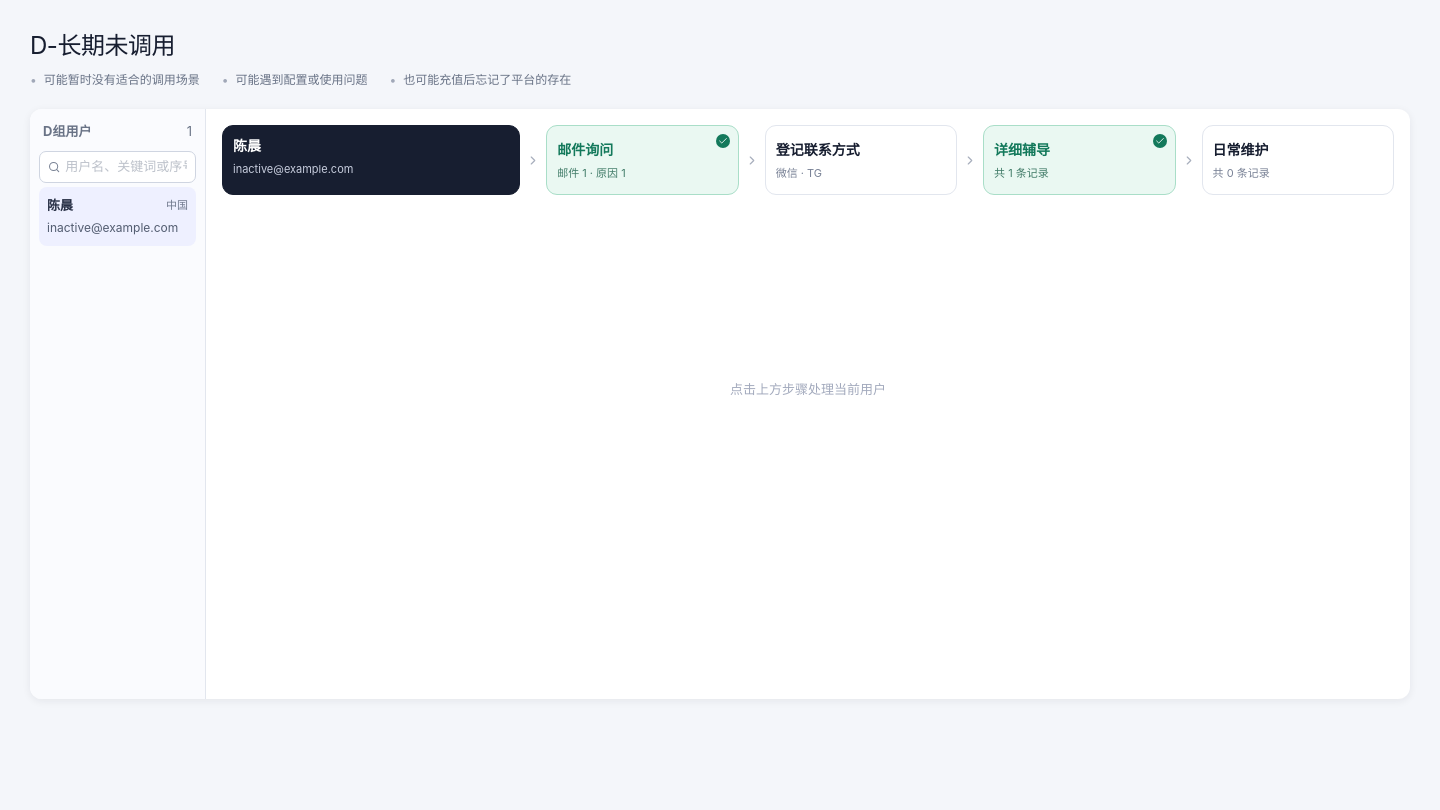
Test: DGroupWorkspace › reuses contact and maintenance interactions
Click the button "登记联系方式 微信 · TG" at (861, 160), box top-left (765, 125), bottom-right (957, 195)
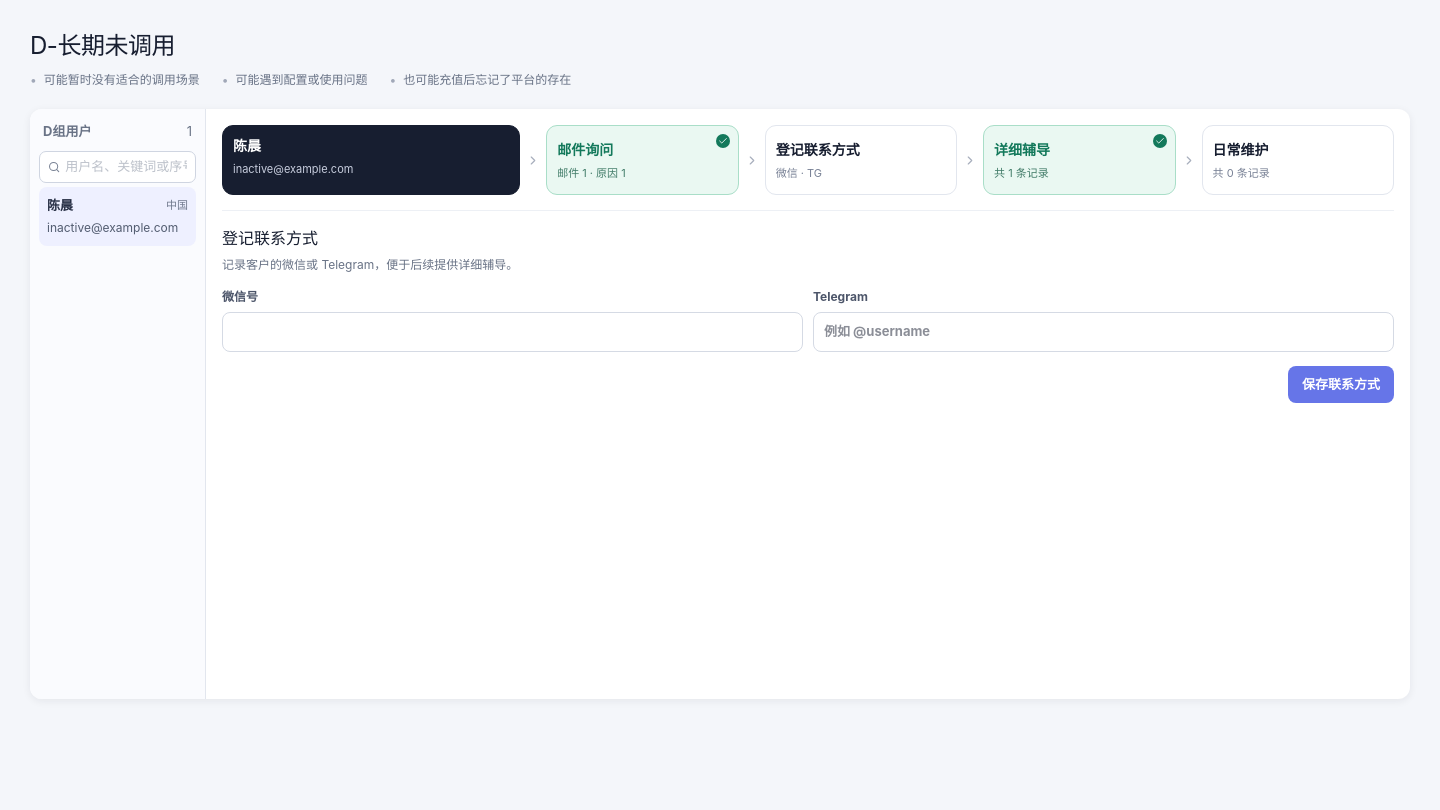
Expected: the field labelled "微信号" is shown, top-left (222, 312), bottom-right (803, 352)
Expected: the field labelled "Telegram" is shown, top-left (813, 312), bottom-right (1394, 352)
Click the button "日常维护 共 0 条记录" at (1298, 160), box top-left (1202, 125), bottom-right (1394, 195)
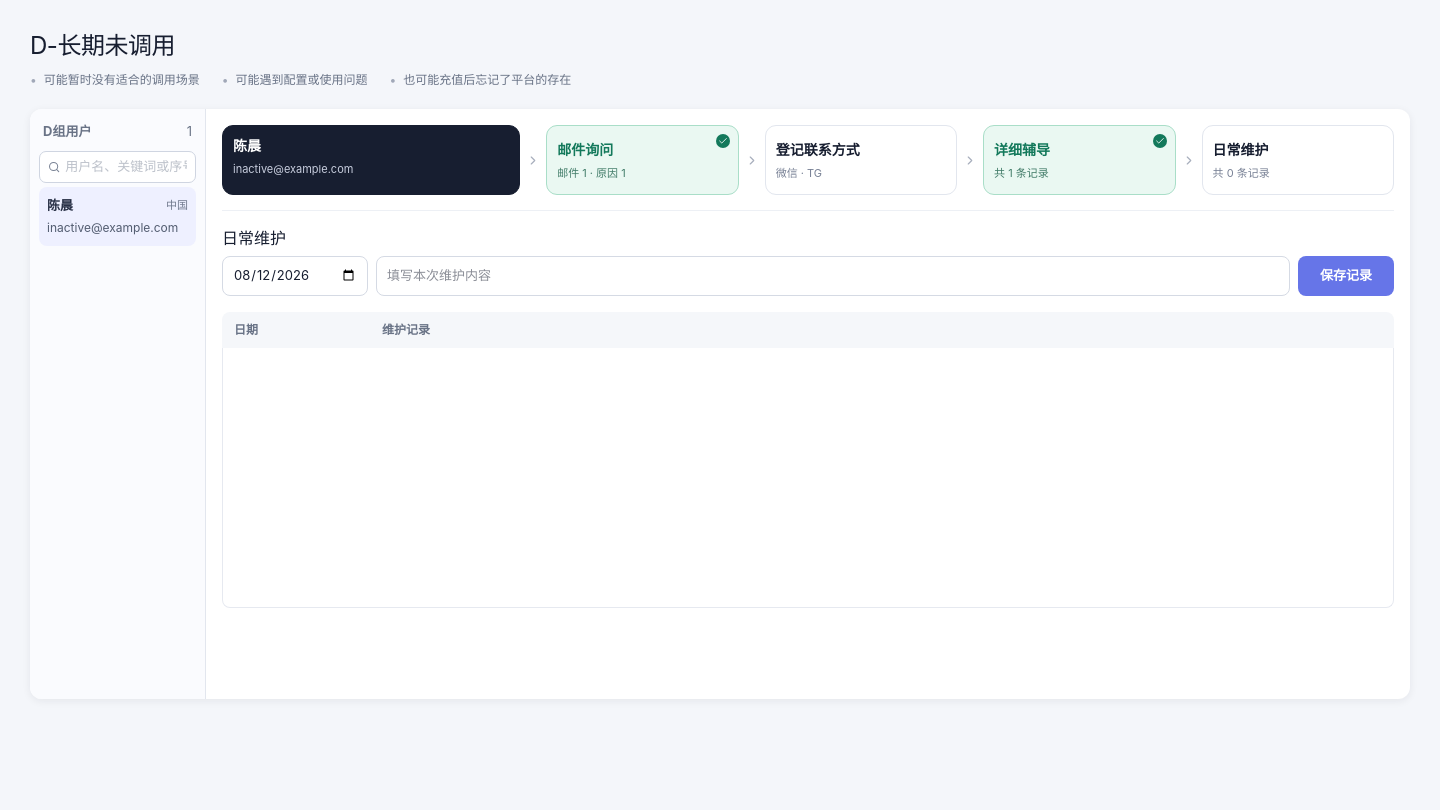
Expected: the field labelled "维护内容" is shown, top-left (376, 256), bottom-right (1290, 296)
